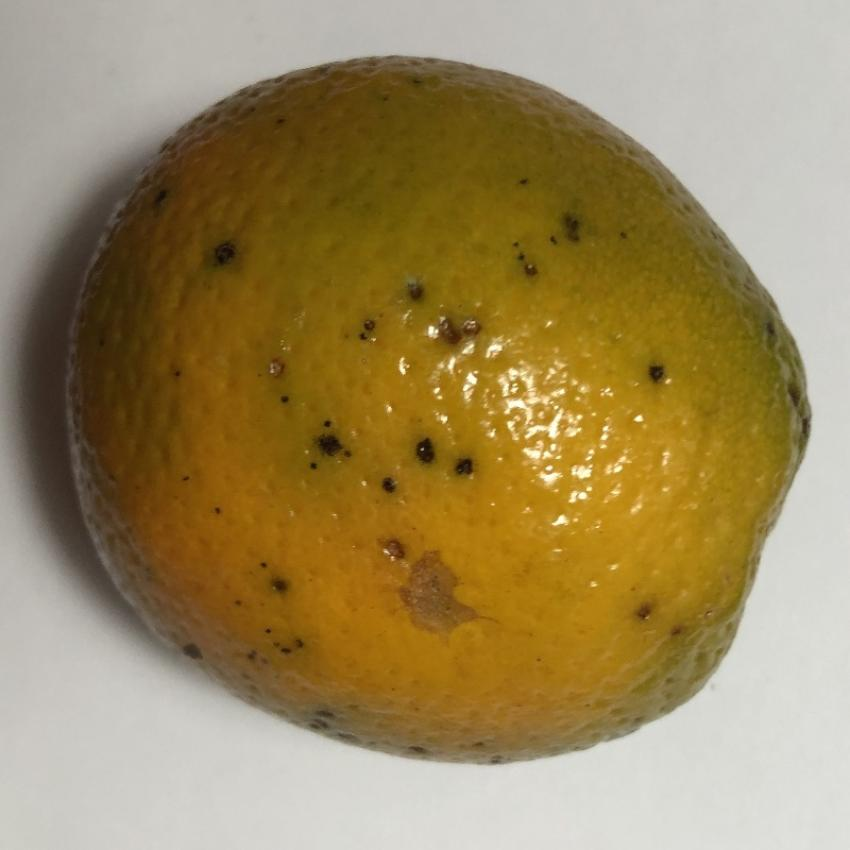Mal estado: (42, 26, 835, 800)
